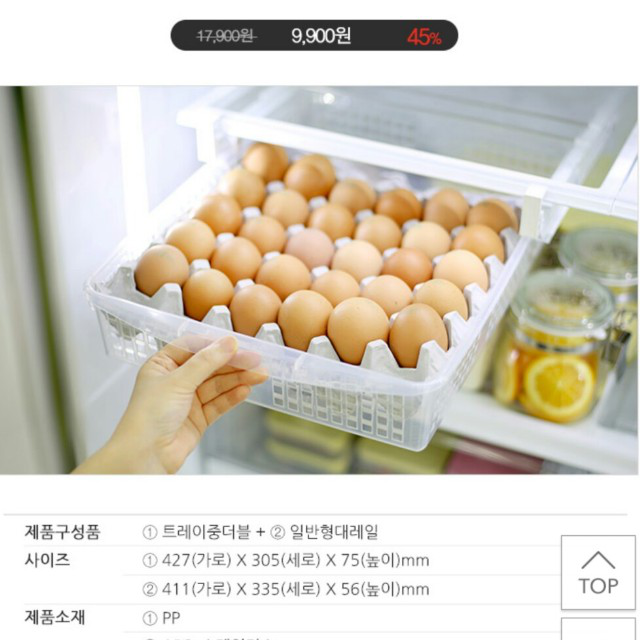egg: (136, 142, 515, 371)
